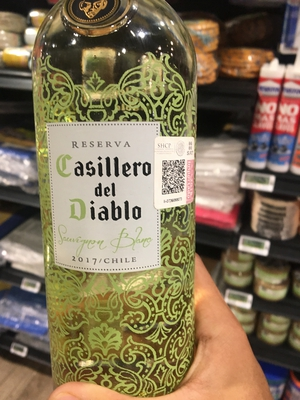casillero del diablo sauvignon blanc: (27, 8, 201, 400)
